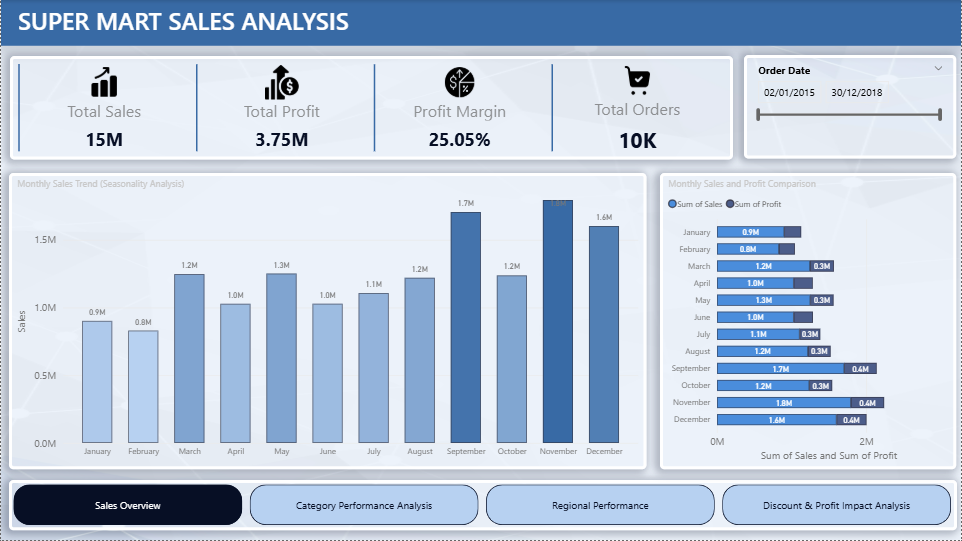

The page's visual inventory and layout, read from the dashboard file:
{"tool":"powerbi","page":{"name":"Sales Overview","canvas":[1280,720],"ordinal":0},"visuals":[{"type":"columnChart","title":"Monthly Sales Trend (Seasonality Analysis)","fields":{"Y":["Sum(Supermart Grocery Sales - Retail Analytics Dataset.Sales)"],"Category":["Supermart Grocery Sales - Retail Analytics Dataset.Order Date.Variation.Date Hierarchy.Month"]},"box":[11.2,230,850,395],"z":0},{"type":"textbox","box":[0,0,1280,60.6],"z":1000},{"type":"pageNavigator","box":[10,640,1263.8,66.9],"z":2000},{"type":"barChart","title":"Monthly Sales and Profit Comparison","fields":{"Category":["Supermart.Order Date.Variation.Date Hierarchy.Month"],"Y":["Sum(Supermart.Sales)","Sum(Supermart.Profit)"]},"box":[878.5,230,395.4,395.4],"z":3000},{"type":"slicer","fields":{"Values":["Supermart.Order Date"]},"box":[990.8,73.8,283.1,137.7],"z":4000},{"type":"cardVisual","fields":{"Data":["Supermart.Total Sales","Supermart.Total Profit","Supermart.% Profit","Supermart.Total Orders"]},"box":[12,74,964,138],"z":5000}]}

Visuals, with their boxes in screenshot pixels (x1, y1, x2, y2), scaled from the page's 1280x720 canvas onto the 962x541 screenshot:
"Monthly Sales Trend (Seasonality Analysis)" columnChart: bbox=[8, 173, 647, 470]
textbox: bbox=[0, 0, 961, 46]
pageNavigator: bbox=[8, 481, 957, 531]
"Monthly Sales and Profit Comparison" barChart: bbox=[660, 173, 957, 470]
slicer - Supermart.Order Date: bbox=[745, 55, 957, 159]
cardVisual - Supermart.Total Sales x Supermart.Total Profit: bbox=[9, 56, 734, 159]
